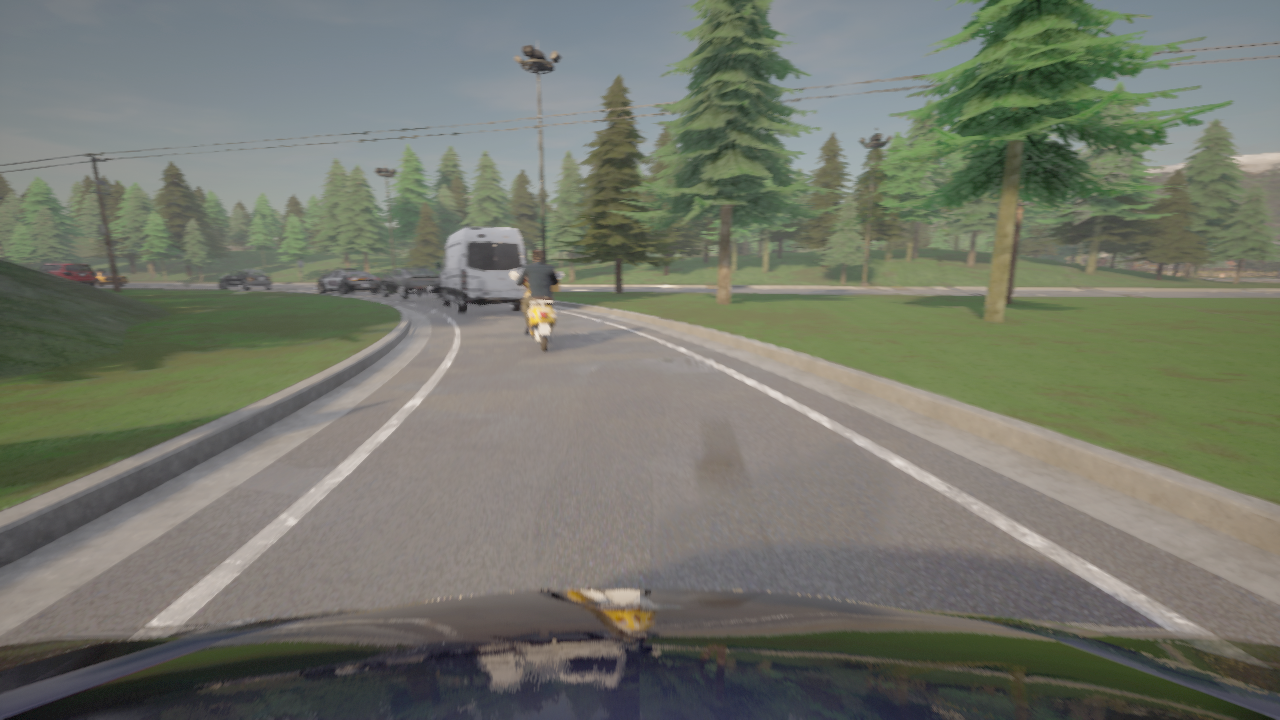cyclist: (0, 588, 1279, 719), (436, 226, 527, 312), (511, 271, 562, 351), (380, 267, 440, 299), (317, 268, 379, 294), (38, 263, 96, 286), (219, 269, 272, 289), (95, 270, 127, 285)
